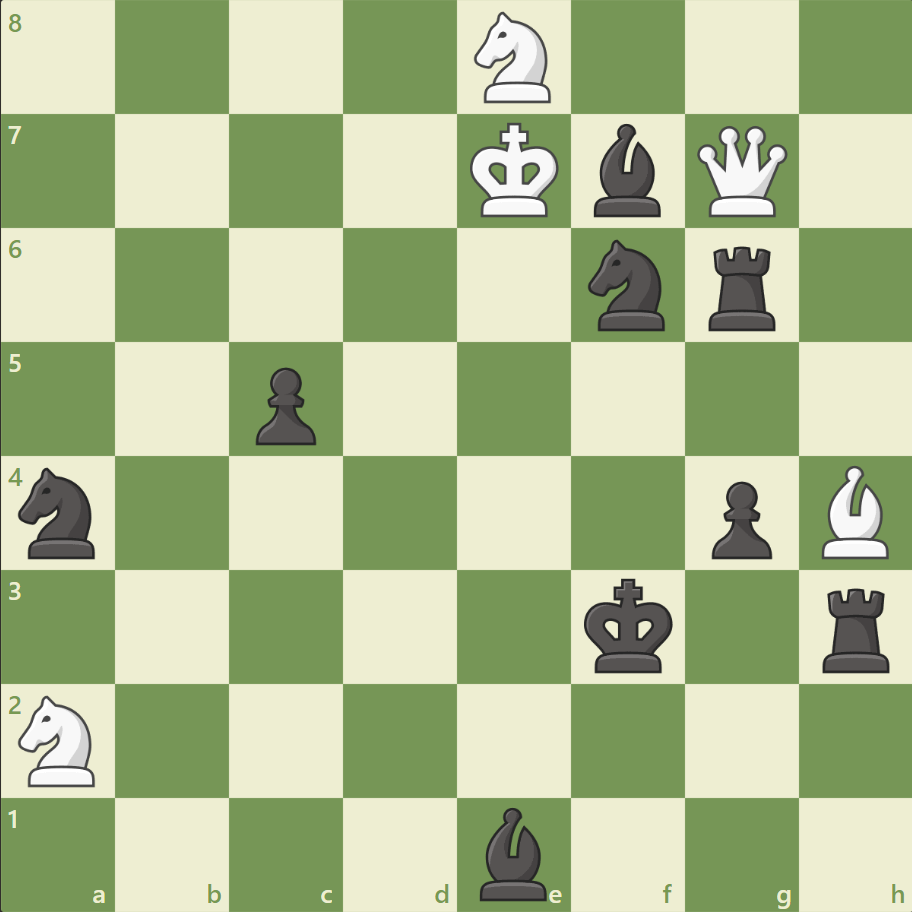B: (812, 460, 896, 563)
K: (465, 117, 565, 225)
N: (465, 7, 562, 110), (11, 688, 108, 791)
Q: (691, 122, 790, 222)
b: (471, 801, 555, 904), (585, 120, 669, 222)
k: (579, 571, 679, 679)
n: (579, 234, 676, 337), (11, 461, 108, 564)
p: (247, 359, 322, 450), (701, 473, 776, 564)
r: (700, 239, 783, 336), (814, 579, 897, 676)
